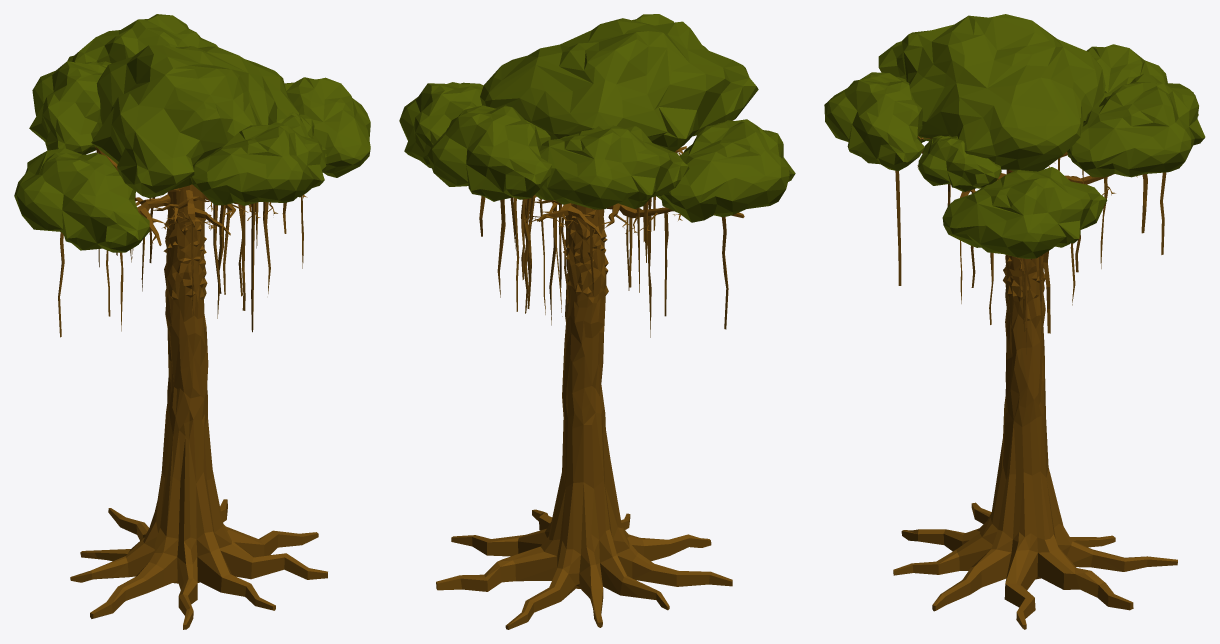
The model's file is Kapok Tree1.fbx.
3 renders of one model, left to right at view 1: azimuth 30°, elevation 25°; view 2: azimuth 150°, elevation 25°; view 3: azimuth 270°, elevation 25°, orthographic.
Visible parts, largest first — view 1: Kapok Tree1; view 2: Kapok Tree1; view 3: Kapok Tree1.
Boxes of the visible parts, <box> form: Kapok Tree1: <box>14,14,370,629</box>; Kapok Tree1: <box>399,14,795,629</box>; Kapok Tree1: <box>824,14,1205,629</box>.
Bounding box in the file's own units: 2481 × 3530 × 2266.
1 material, 1 textured.
